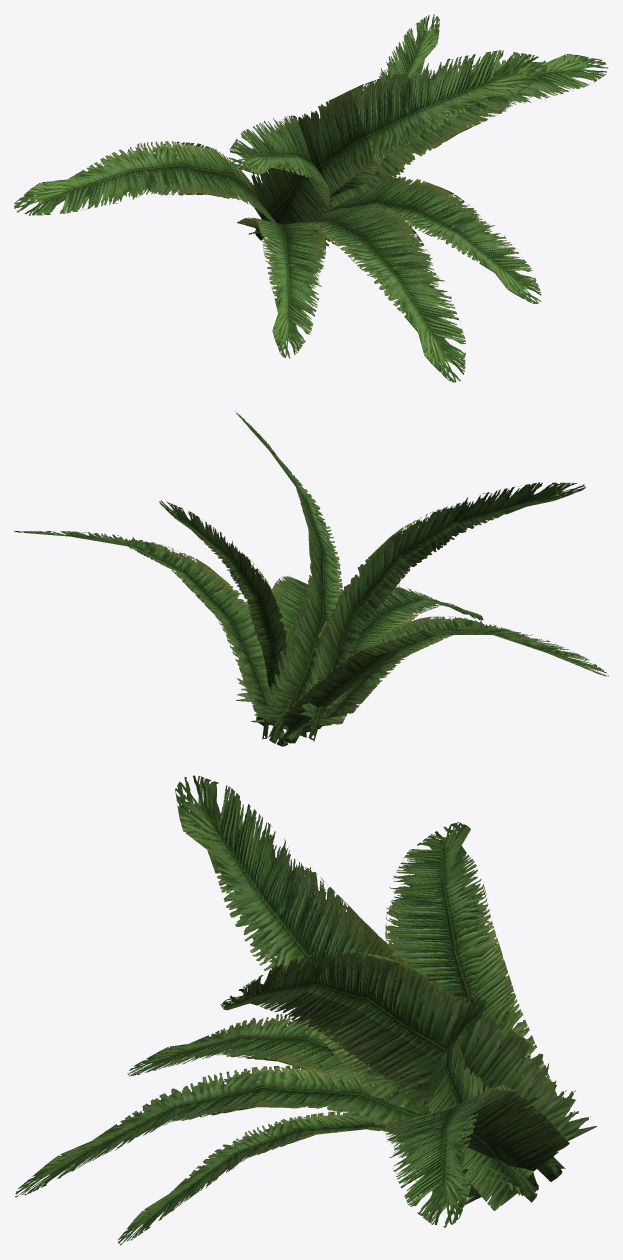
The model's file is plant1.obj.
The picture shows the model from 3 angles, top to bottom: view 1: azimuth 30°, elevation 25°; view 2: azimuth 150°, elevation 25°; view 3: azimuth 270°, elevation 25°; orthographic projection. The views are drawn at different scales.
Parts seen in each view (by area): view 1: Form12_Form12_auv; view 2: Form12_Form12_auv; view 3: Form12_Form12_auv.
Boxes of the visible parts, x1,y1,x2,y2 form: Form12_Form12_auv: (14, 14, 608, 382); Form12_Form12_auv: (14, 411, 608, 746); Form12_Form12_auv: (15, 775, 596, 1244).
Size of the model in its own units: 120 by 46.08 by 75.43.
